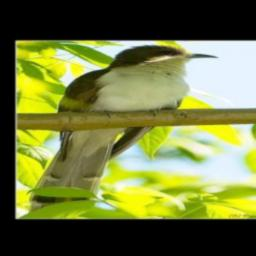Cuckoo: (26, 44, 218, 215)
